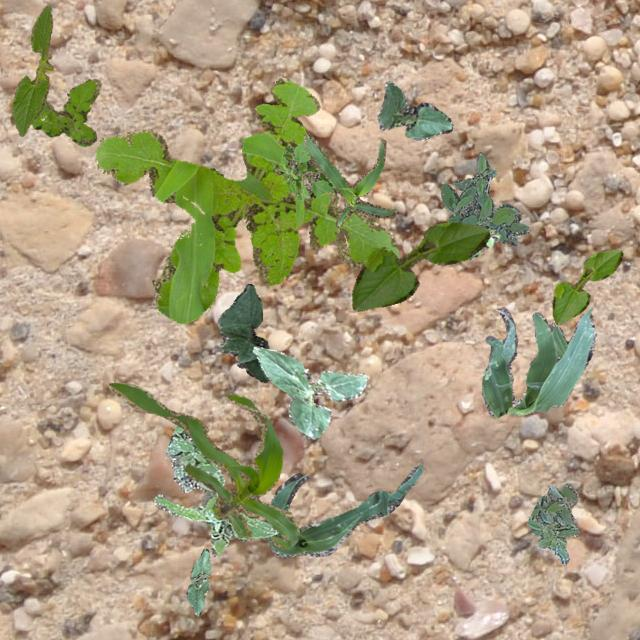crop: (108, 382, 298, 548), (266, 459, 422, 557), (480, 306, 596, 416), (352, 222, 488, 310), (252, 344, 366, 440), (302, 134, 396, 225), (9, 4, 52, 136), (552, 248, 622, 324), (216, 283, 268, 382), (376, 80, 452, 140), (186, 548, 210, 614)
weed: (95, 76, 398, 322), (152, 424, 278, 554), (440, 152, 530, 245), (30, 78, 100, 146), (526, 482, 578, 564), (272, 140, 338, 200), (466, 228, 499, 258)
